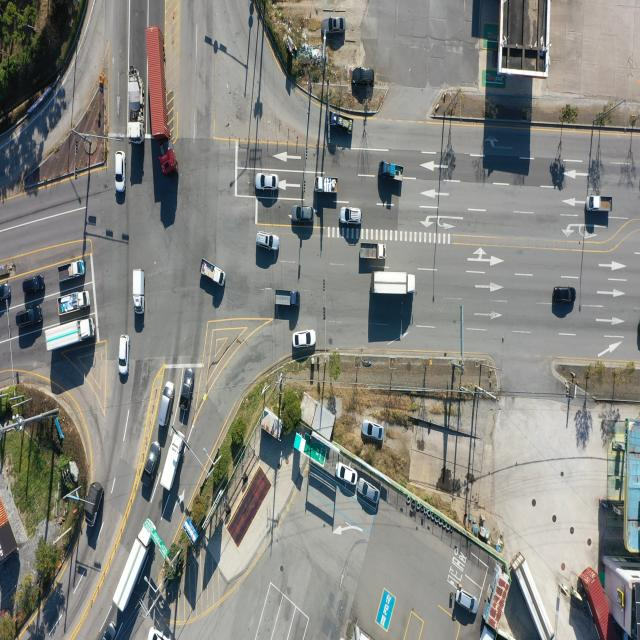car: (160, 382, 175, 428), (15, 306, 42, 328), (456, 588, 478, 615), (180, 368, 194, 408), (144, 442, 159, 477), (358, 480, 378, 504), (118, 334, 129, 376), (20, 276, 43, 296), (292, 332, 315, 351), (337, 465, 357, 486), (255, 173, 278, 191), (341, 207, 364, 225), (352, 67, 375, 85), (114, 153, 124, 194), (363, 421, 384, 440), (256, 233, 278, 251), (553, 286, 575, 303), (292, 205, 313, 222), (326, 18, 345, 35), (103, 623, 119, 640), (148, 628, 167, 640), (0, 283, 11, 303)
large_truck: (145, 24, 178, 174)
medium_truck: (115, 517, 157, 613), (518, 550, 558, 638), (46, 317, 96, 356), (158, 432, 184, 495), (128, 74, 146, 140), (370, 272, 413, 296)
small_truck: (85, 484, 102, 529), (60, 290, 91, 314), (200, 261, 226, 289), (57, 260, 86, 284), (133, 270, 146, 314), (360, 242, 388, 260), (330, 112, 354, 133), (315, 175, 339, 194), (586, 192, 611, 210), (380, 162, 404, 180), (275, 289, 300, 306), (481, 624, 499, 640)
